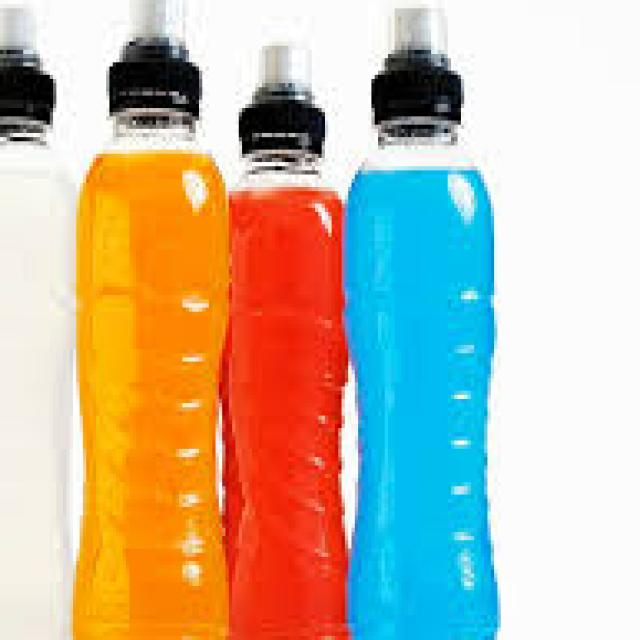organic: (64, 8, 229, 631), (347, 5, 502, 633), (217, 29, 365, 629)
